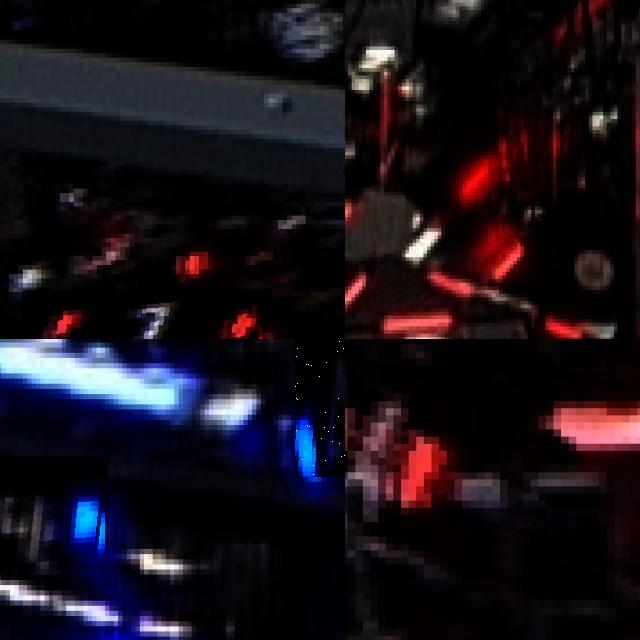B4: (0, 456, 109, 569), (295, 339, 345, 476)
R1: (22, 290, 268, 339)
